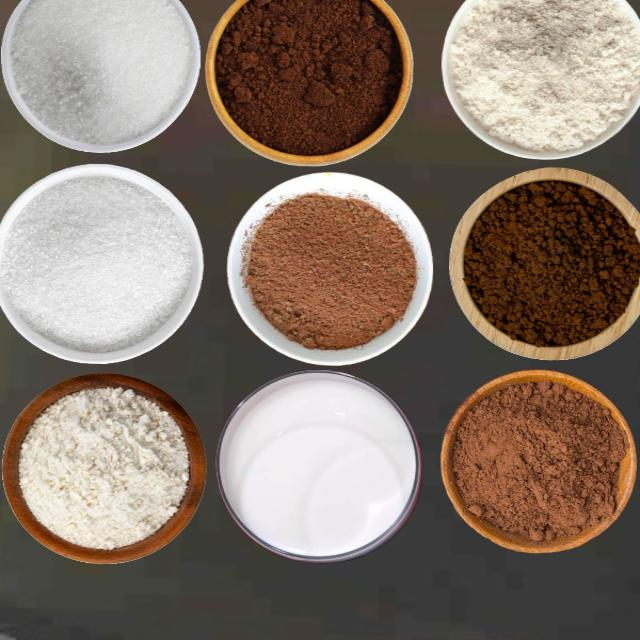Cocoa: (450, 378, 626, 543), (243, 190, 417, 350)
Coffee: (461, 178, 639, 347), (212, 0, 402, 156)
Flour: (449, 0, 639, 152), (17, 385, 189, 550)
Sugar: (0, 174, 193, 352), (8, 0, 192, 145)
